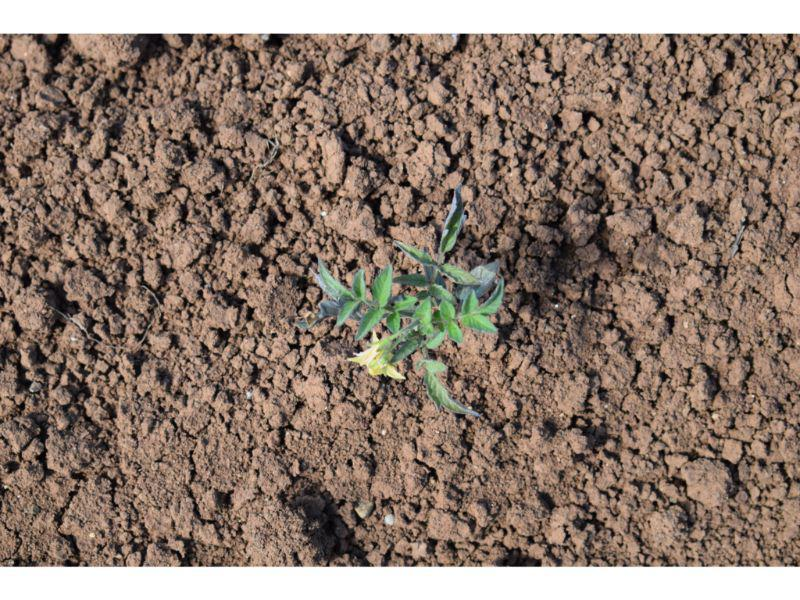tomato: (318, 187, 503, 418)
